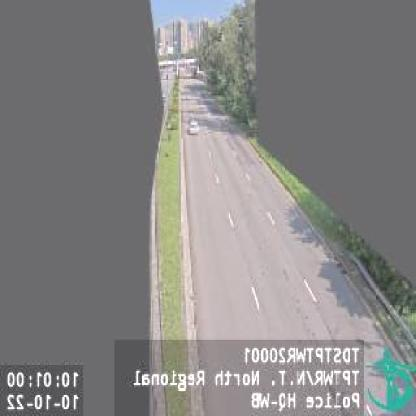Car: (188, 118, 200, 134)
